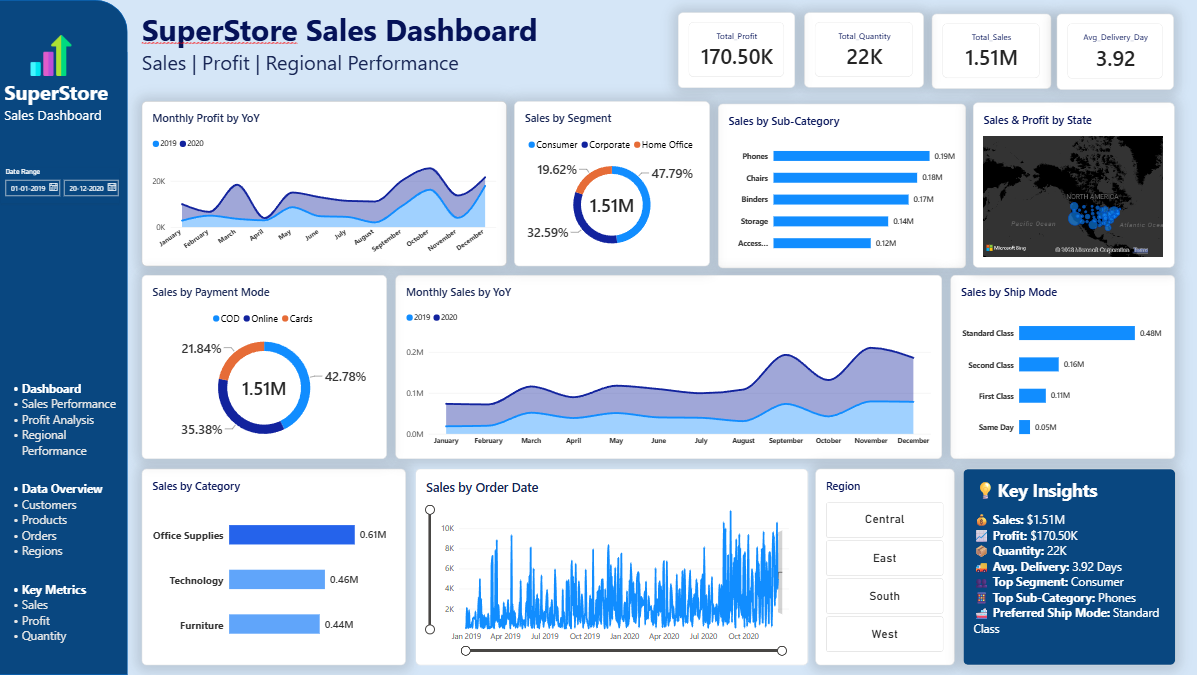

The page's visual inventory and layout, read from the dashboard file:
{"tool":"powerbi","page":{"name":"Page 1","canvas":[1920,1080],"ordinal":0},"visuals":[{"type":"shape","box":[0,0,207.5,1080],"z":0},{"type":"clusteredBarChart","title":"Sales by Category","fields":{"Category":["SuperStore_Sales_Dataset.Category"],"Y":["Sum(SuperStore_Sales_Dataset.Sales)"]},"box":[230,750,422,314],"z":1000},{"type":"clusteredBarChart","title":"Sales by Sub-Category","fields":{"Category":["SuperStore_Sales_Dataset.Sub-Category"],"Y":["Sum(SuperStore_Sales_Dataset.Sales)"]},"box":[1152.5,165,396.7,263.3],"z":2000},{"type":"clusteredBarChart","title":"Sales by Ship Mode","fields":{"Category":["SuperStore_Sales_Dataset.Ship Mode"],"Y":["Sum(SuperStore_Sales_Dataset.Sales)"]},"box":[1523,440,359,294],"z":3000},{"type":"stackedAreaChart","title":"Monthly Sales by YoY","fields":{"Category":["SuperStore_Sales_Dataset.Order Date.Variation.Date Hierarchy.Month","SuperStore_Sales_Dataset.Order Date.Variation.Date Hierarchy.Day"],"Series":["SuperStore_Sales_Dataset.Order Date.Variation.Date Hierarchy.Year"],"Y":["Sum(SuperStore_Sales_Dataset.Sales)"]},"box":[635,440,874,294],"z":4000},{"type":"stackedAreaChart","title":"Monthly Profit by YoY","fields":{"Category":["SuperStore_Sales_Dataset.Order Date.Variation.Date Hierarchy.Month","SuperStore_Sales_Dataset.Order Date.Variation.Date Hierarchy.Day"],"Series":["SuperStore_Sales_Dataset.Order Date.Variation.Date Hierarchy.Year"],"Y":["Sum(SuperStore_Sales_Dataset.Profit)"]},"box":[230,161.7,584.3,264.3],"z":5000},{"type":"map","title":"Sales & Profit by State","fields":{"Category":["SuperStore_Sales_Dataset.State"],"Size":["Sum(SuperStore_Sales_Dataset.Sales)"]},"box":[1559.2,164.2,322.1,264.2],"z":6000},{"type":"donutChart","title":"Sales by Segment","fields":{"Category":["SuperStore_Sales_Dataset.Segment"],"Y":["Sum(SuperStore_Sales_Dataset.Sales)"]},"box":[825,161.7,312.9,264.3],"z":7000},{"type":"donutChart","title":"Sales by Payment Mode","fields":{"Category":["SuperStore_Sales_Dataset.Payment Mode"],"Y":["Sum(SuperStore_Sales_Dataset.Sales)"]},"box":[230,440,392,294],"z":8000},{"type":"advancedSlicerVisual","fields":{"Values":["SuperStore_Sales_Dataset.Region"]},"box":[1307,750,222,314],"z":9000},{"type":"cardVisual","title":"Sales","fields":{"Data":["Sum(SuperStore_Sales_Dataset.Sales)"]},"box":[1493,22,191,120],"z":10000},{"type":"cardVisual","title":"Sales","fields":{"Data":["Sum(SuperStore_Sales_Dataset.Quantity)"]},"box":[1290,21,191,120],"z":11000},{"type":"cardVisual","title":"Sales","fields":{"Data":["Sum(SuperStore_Sales_Dataset.Profit)"]},"box":[1088.7,20,187.3,120.9],"z":12000},{"type":"cardVisual","title":"Sales","fields":{"Data":["Avg(SuperStore_Sales_Dataset.AvgDelivery)"]},"box":[1694,21,187.3,121.8],"z":13000},{"type":"textbox","box":[10,126.8,198.4,80.5],"z":14000},{"type":"textbox","box":[230,14,660,136],"z":15000},{"type":"lineChart","title":"Sales by Order Date","fields":{"Category":["SuperStore_Sales_Dataset.Order Date"],"Y":["Sum(SuperStore_Sales_Dataset.Sales)"]},"box":[668,750,628,314],"z":16000},{"type":"textbox","title":" 💡Key Insights","box":[1544,750,340,314],"z":17000},{"type":"slicer","fields":{"Values":["SuperStore_Sales_Dataset.Order Date"]},"box":[4.3,268.6,190,57.3],"z":18000},{"type":"textbox","box":[10,608,180,458],"z":19000},{"type":"image","box":[52.6,43.2,65.3,90],"z":20000}]}

Visuals, with their boxes in screenshot pixels (x1, y1, x2, y2), scaled from the page's 1920x1080 canvas onto the 1197x675 screenshot:
shape: 0 0 129 674
"Sales by Category" clusteredBarChart: 143 469 406 665
"Sales by Sub-Category" clusteredBarChart: 719 103 966 268
"Sales by Ship Mode" clusteredBarChart: 949 275 1173 459
"Monthly Sales by YoY" stackedAreaChart: 396 275 941 459
"Monthly Profit by YoY" stackedAreaChart: 143 101 508 266
"Sales & Profit by State" map: 972 103 1173 268
"Sales by Segment" donutChart: 514 101 709 266
"Sales by Payment Mode" donutChart: 143 275 388 459
advancedSlicerVisual - SuperStore_Sales_Dataset.Region: 815 469 953 665
"Sales" cardVisual: 931 14 1050 89
"Sales" cardVisual: 804 13 923 88
"Sales" cardVisual: 679 12 796 88
"Sales" cardVisual: 1056 13 1173 89
textbox: 6 79 130 130
textbox: 143 9 555 94
"Sales by Order Date" lineChart: 416 469 808 665
" 💡Key Insights" textbox: 963 469 1175 665
slicer - SuperStore_Sales_Dataset.Order Date: 3 168 121 204
textbox: 6 380 118 666
image: 33 27 74 83
